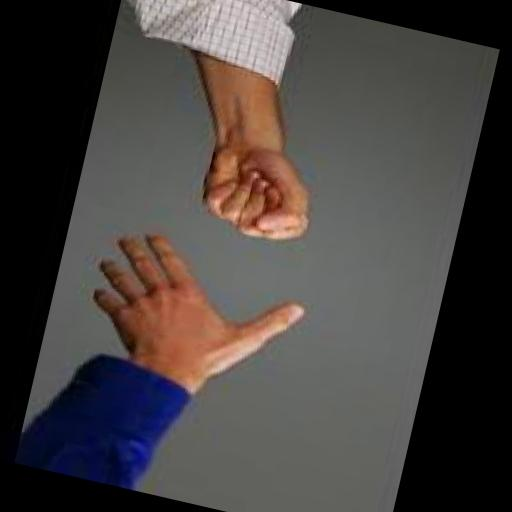Fist: (158, 108, 394, 288)
Open_Palm: (78, 233, 350, 436)
